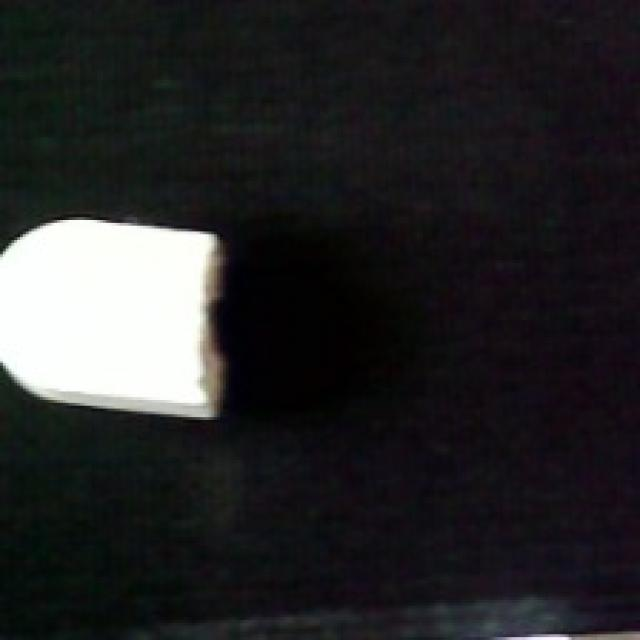defected: (0, 206, 240, 420)
